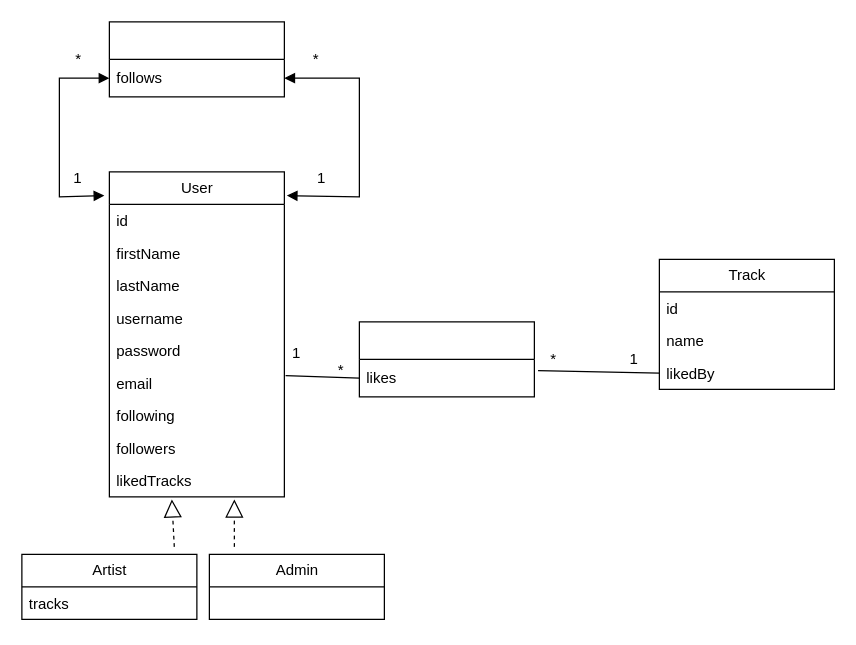
The diagram is 856 pixels wide and 645 high, and some of its shapes have lost their labels. The shapes that lost their labels are listed below. From the top down, each one's box as (x1, y1, x2, y2) in pixels, then its label:
(108, 21, 284, 97): User to User
(358, 321, 534, 397): User to Track
